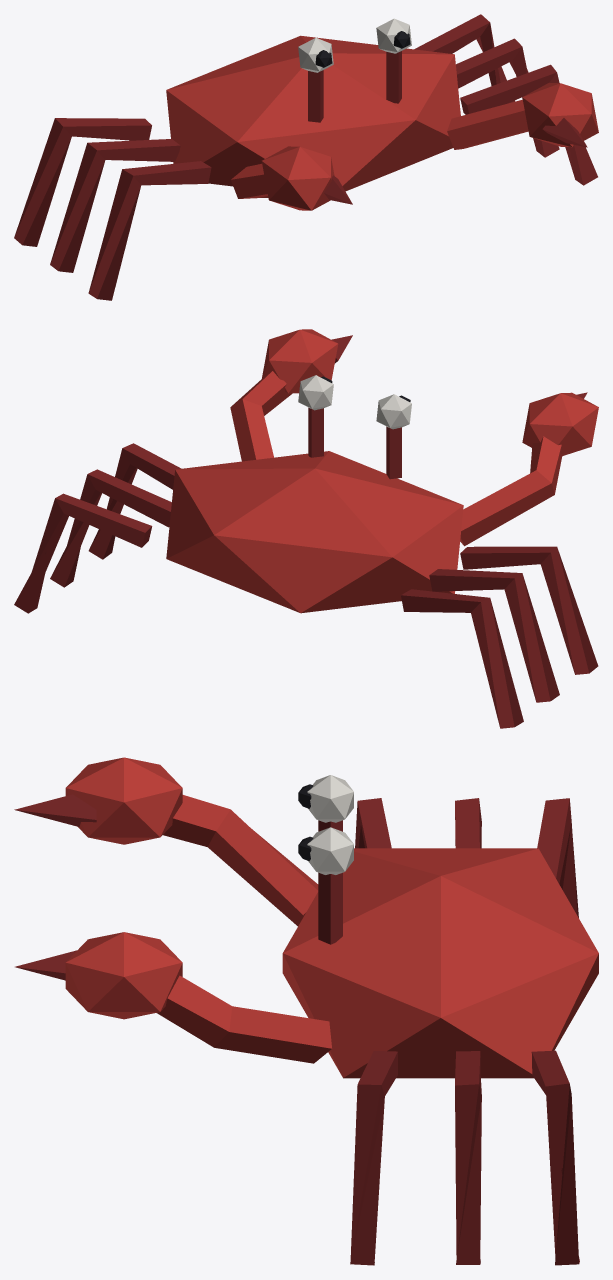
File: Crab.glb
3 renders of one model, top to bottom at view 1: azimuth 30°, elevation 25°; view 2: azimuth 150°, elevation 25°; view 3: azimuth 270°, elevation 25°, orthographic. The views are drawn at different scales.
Parts seen in each view (by area): view 1: Crab; view 2: Crab; view 3: Crab.
Part boxes in pixels (bbox=[...]): Crab: bbox=[14, 14, 598, 300]; Crab: bbox=[14, 329, 598, 728]; Crab: bbox=[14, 757, 598, 1265].
Size of the model in its own units: 1.15 by 0.4866 by 0.8497.
